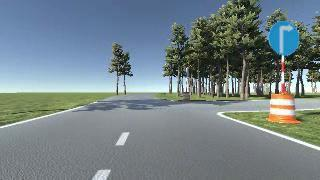turn_right: (267, 21, 298, 55)
